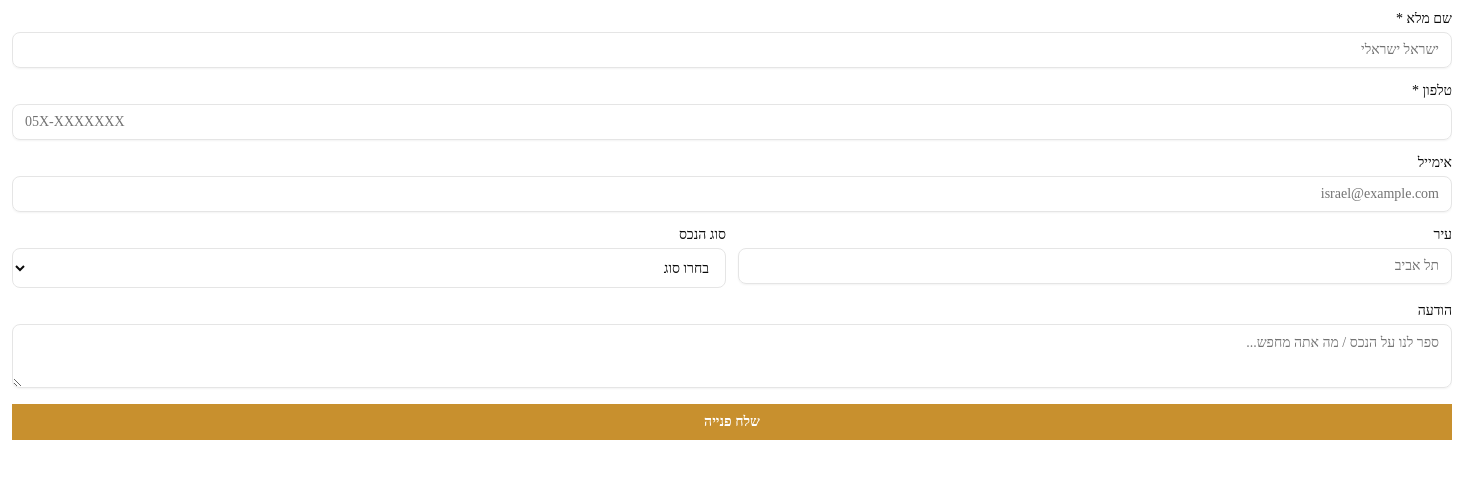
Test: LeadForm › shows validation error for missing full_name
Click the button "שלח פנייה" at (732, 422), box x1=12 y1=404 x2=1452 y2=440
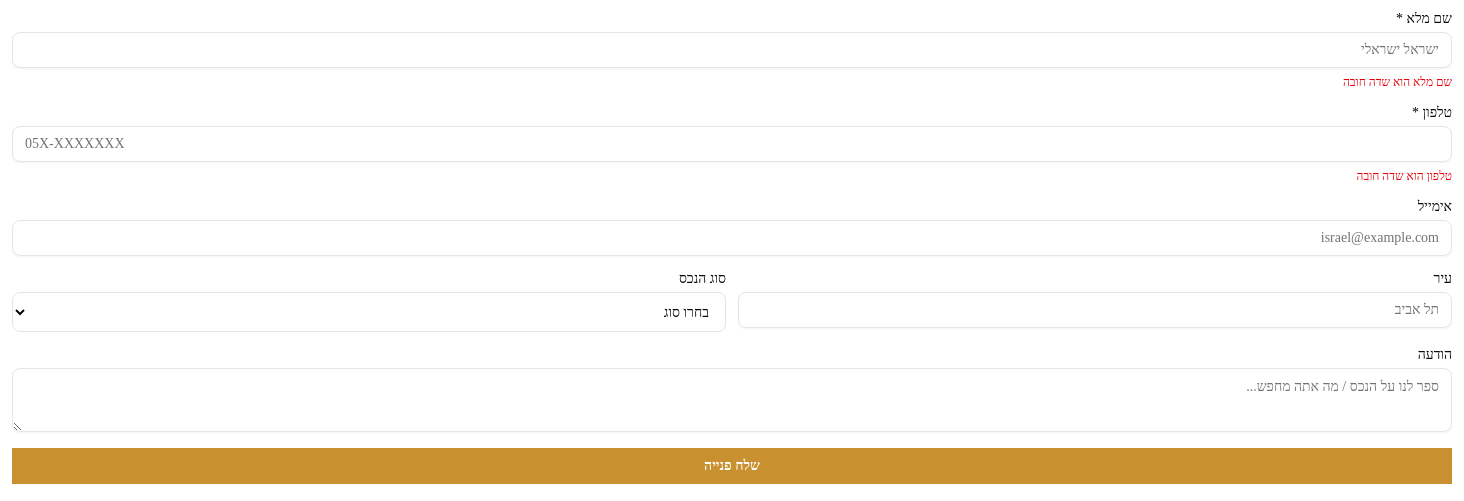
expect the text "שם מלא הוא שדה חובה" is shown: met, box x1=1343 y1=75 x2=1452 y2=89
